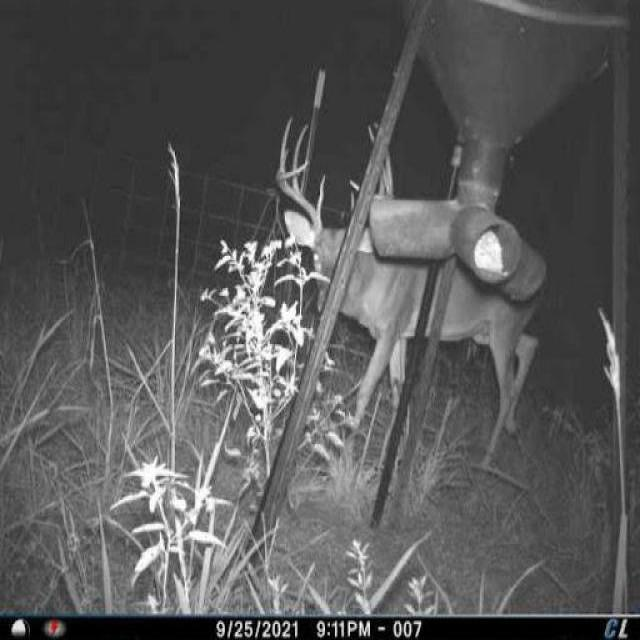deer: (265, 106, 554, 507)
